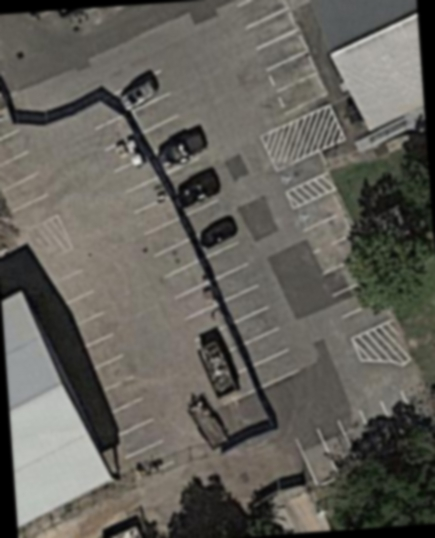parkingspot: (90, 68, 303, 393), (37, 264, 178, 485), (109, 156, 230, 345), (290, 189, 396, 343), (292, 387, 425, 489), (231, 0, 331, 121), (0, 126, 61, 237), (271, 149, 331, 196)
